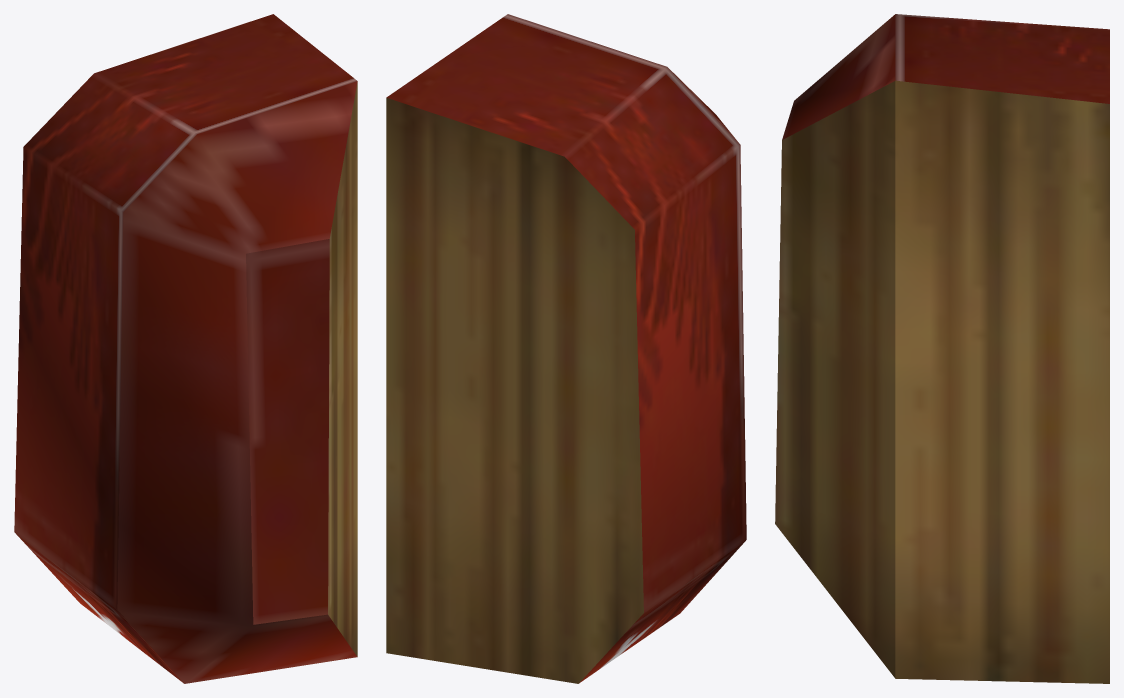
File: Skill_Cowboy_01_Broken_05_bb91ba4e__Skill_Cowboy_01_Broken_4a527cb7_c1f257.obj
3 views of the same model, side by side, from view 1: azimuth 30°, elevation 25°; view 2: azimuth 150°, elevation 25°; view 3: azimuth 270°, elevation 25° (orthographic). The views are drawn at different scales.
Bounding box in the file's own units: 0.2631 × 0.5588 × 0.2834.
Materials: 1 (1 with a texture image).
